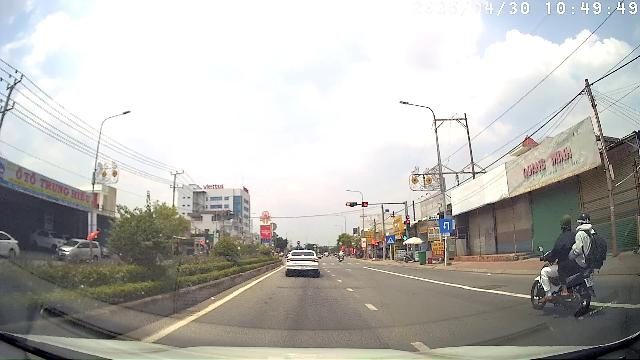423a-duong-nguoi-di-bo-sang-ngang-1: (386, 235, 395, 245)
